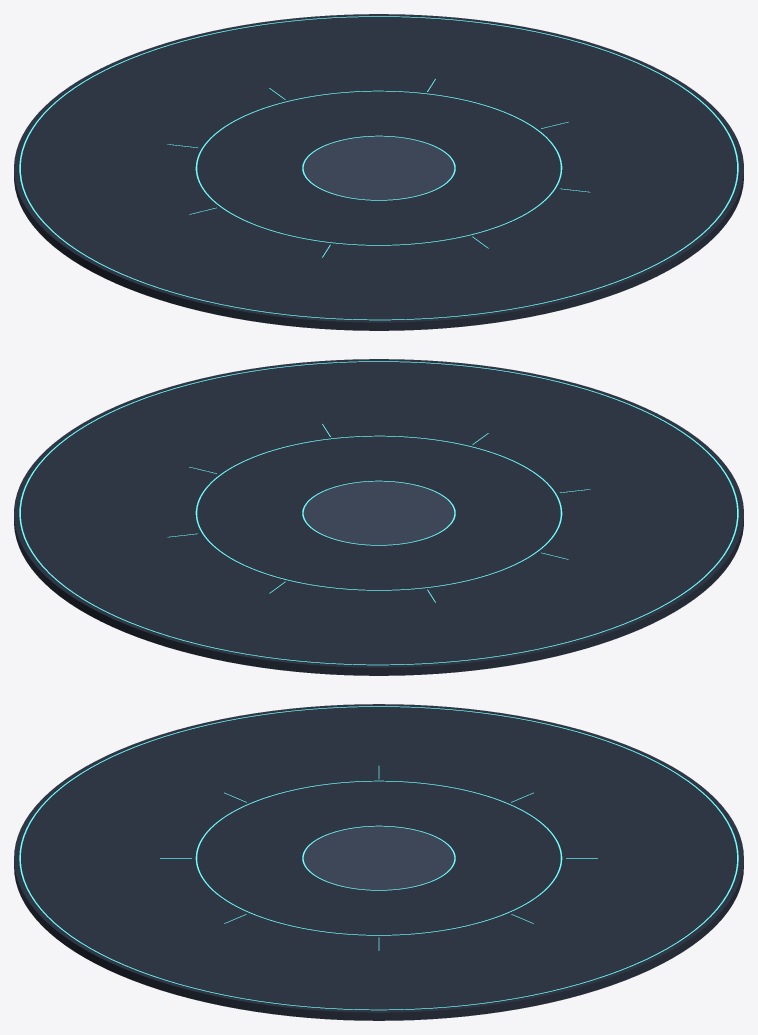
3 renders of one model, top to bottom at view 1: azimuth 30°, elevation 25°; view 2: azimuth 150°, elevation 25°; view 3: azimuth 270°, elevation 25°, orthographic.
Visible parts, largest first — view 1: nexo_floor.lod0; view 2: nexo_floor.lod0; view 3: nexo_floor.lod0.
Boxes of the visible parts, x1=… form: nexo_floor.lod0: x1=14, y1=14, x2=743, y2=330; nexo_floor.lod0: x1=14, y1=359, x2=743, y2=675; nexo_floor.lod0: x1=14, y1=704, x2=743, y2=1020.
Size of the model in its own units: 48 by 0.6094 by 48.
